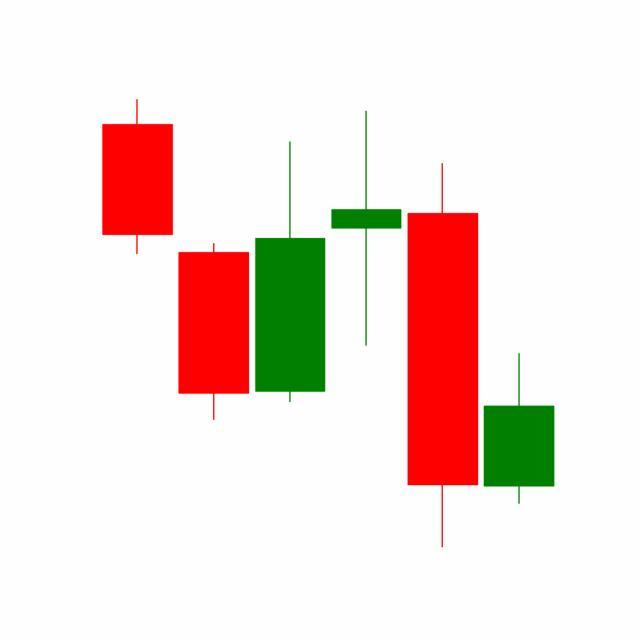Evening Star: (252, 106, 482, 548)
